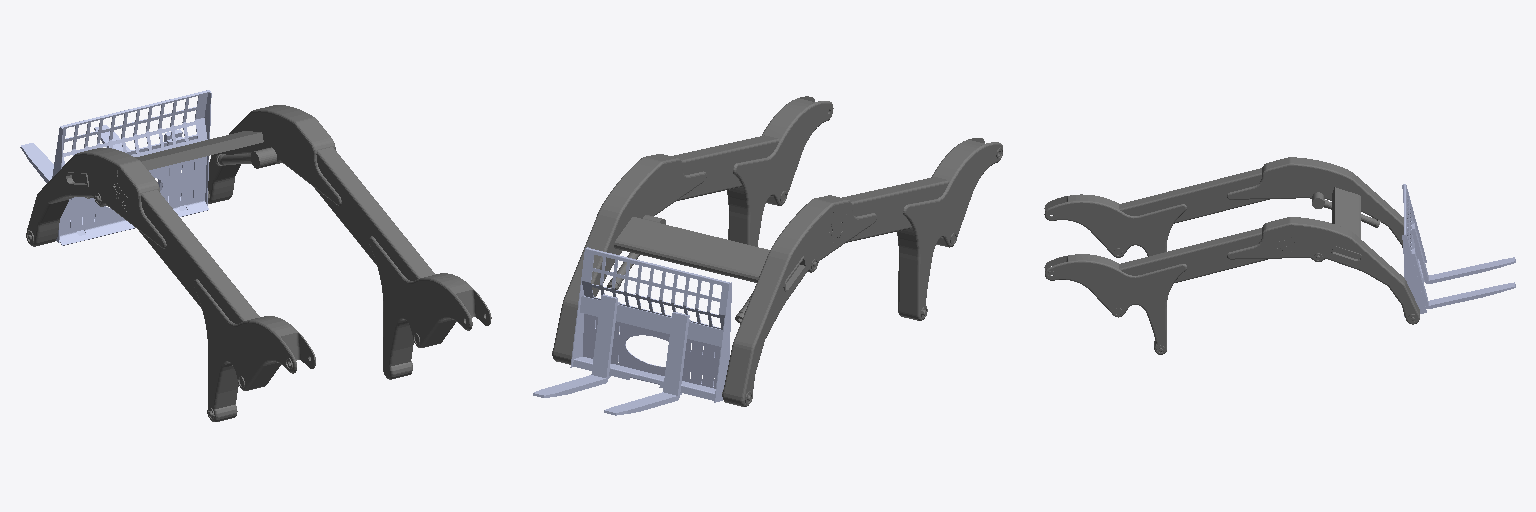
URDF robot description (bobcat3):
<?xml version="1.0" encoding="utf-8"?>
<!-- This URDF was automatically created by SolidWorks to URDF Exporter! Originally created by [author] ([email redacted]) 
     Commit Version: 1.6.0-4-g7f85cfe  Build Version: 1.6.7995.38578
     For more information, please see http://wiki.ros.org/sw_urdf_exporter -->
<robot
  name="bobcat3">
  <link name = "base_footprint"/>
  <joint
    name="wrold_fix"
    type="fixed">
    <origin
      xyz="0 0 1"
      rpy="1.5708 0 0" />
    <parent
      link="base_footprint" />
    <child
      link="base_link" />
  </joint>
  
  
  
  <link
    name="base_link">
    <inertial>
      <origin
        xyz="-1.8238E-06 0.022257 0.014962"
        rpy="0 0 0" />
      <mass
        value="0.11236" />
      <inertia
        ixx="4.1934E-05"
        ixy="-9.6708E-09"
        ixz="1.5214E-09"
        iyy="3.7338E-05"
        iyz="-6.0042E-06"
        izz="2.4357E-05" />
    </inertial>
    <visual>
      <origin
        xyz="0 0 0"
        rpy="0 0 0" />
      <geometry>
        <mesh
          filename="package://bobcat3/meshes/base_link.STL" />
      </geometry>
      <material
        name="">
        <color
          rgba="0 0 0 1" />
      </material>
    </visual>
    <collision>
      <origin
        xyz="0 0 0"
        rpy="0 0 0" />
      <geometry>
        <mesh
          filename="package://bobcat3/meshes/base_link.STL" />
      </geometry>
    </collision>
  </link>
   <link
    name="fr">
    <inertial>
      <origin
        xyz="0 0.002 -6.93889390390723E-18"
        rpy="0 0 0" />
      <mass
        value="1.000997328375146696" />
      <inertia
        ixx="2.16166446631795E-08"
        ixy="2.25435322789959E-24"
        ixz="4.70197740328915E-37"
        iyy="4.05737469926344E-08"
        iyz="4.709603314152E-38"
        izz="2.16166446631795E-08" />
    </inertial>

    <collision>
      <origin
        xyz="0 0 0"
        rpy="0 0 0" />
      <geometry>
        <mesh
          filename="package://bobcat3/meshes/wheel_rf.STL" />
      </geometry>
    </collision>
  </link>
  <joint
    name="fr_j"
    type="continuous">
    <origin
      xyz="0.038509 -0.0024193 -0.034535"
      rpy="0 0 1.5708" />
    <parent
      link="base_link" />
    <child
      link="fr" />
    <axis
      xyz="0 1 0" />
  </joint>
  <link
    name="fl">
    <inertial>
      <origin
        xyz="0 0.002 -6.93889390390723E-18"
        rpy="0 0 0" />
      <mass
        value="1.000997328375146696" />
      <inertia
        ixx="2.16166446631795E-08"
        ixy="2.25435322789959E-24"
        ixz="4.70197740328915E-37"
        iyy="4.05737469926344E-08"
        iyz="4.709603314152E-38"
        izz="2.16166446631795E-08" />
    </inertial>

    <collision>
      <origin
        xyz="0 0 0"
        rpy="0 0 0" />
      <geometry>
        <mesh
          filename="package://bobcat3/meshes/wheel_rf.STL" />
      </geometry>
    </collision>
  </link>
  <joint
    name="fl_j"
    type="continuous">
    <origin
      xyz="-0.034509 -0.0024193 -0.034542"
      rpy="0 0 1.5708" />
    <parent
      link="base_link" />
    <child
      link="fl" />
    <axis
      xyz="0 1 0" />
  </joint>
    <link
    name="rr">
    <inertial>
      <origin
        xyz="0 0.002 -6.93889390390723E-18"
        rpy="0 0 0" />
      <mass
        value="1.000997328375146696" />
      <inertia
        ixx="2.16166446631795E-08"
        ixy="2.25435322789959E-24"
        ixz="4.70197740328915E-37"
        iyy="4.05737469926344E-08"
        iyz="4.709603314152E-38"
        izz="2.16166446631795E-08" />
    </inertial>

    <collision>
      <origin
        xyz="0 0 0"
        rpy="0 0 0" />
      <geometry>
        <mesh
          filename="package://bobcat3/meshes/wheel_rf.STL" />
      </geometry>
    </collision>
  </link>
  <joint
    name="rr_j"
    type="continuous">
    <origin
      xyz="0.038509 -0.0024193 0.025629"
      rpy="0 0 1.5708" />
    <parent
      link="base_link" />
    <child
      link="rr" />
    <axis
      xyz="0 1 0" />
  </joint>
     <link
    name="rl">
    <inertial>
      <origin
        xyz="0 0.002 -6.93889390390723E-18"
        rpy="0 0 0" />
      <mass
        value="1.000997328375146696" />
      <inertia
        ixx="2.16166446631795E-08"
        ixy="2.25435322789959E-24"
        ixz="4.70197740328915E-37"
        iyy="4.05737469926344E-08"
        iyz="4.709603314152E-38"
        izz="2.16166446631795E-08" />
    </inertial>

    <collision>
      <origin
        xyz="0 0 0"
        rpy="0 0 0" />
      <geometry>
        <mesh
          filename="package://bobcat3/meshes/wheel_rf.STL" />
      </geometry>
    </collision>
  </link>
  <joint
    name="rl_j"
    type="continuous">
    <origin
      xyz="-0.034509 -0.0024193 0.025629"
      rpy="0 0 1.5708" />
    <parent
      link="base_link" />
    <child
      link="rl" />
    <axis
      xyz="0 1 0" />
  </joint>
  <link
    name="link1">
    <inertial>
      <origin
        xyz="-0.051553 0.0012663 0.022548"
        rpy="0 0 0" />
      <mass
        value="0.110932" />
      <inertia
        ixx="5.1946E-07"
        ixy="-3.6536E-07"
        ixz="-2.3689E-12"
        iyy="1.4221E-06"
        iyz="-1.1955E-12"
        izz="1.6758E-06" />
    </inertial>
    <visual>
      <origin
        xyz="0 0 0"
        rpy="0 0 0" />
      <geometry>
        <mesh
          filename="package://bobcat3/meshes/link1.STL" />
      </geometry>
      <material
        name="">
        <color
          rgba="0.50196 0.50196 0.50196 1" />
      </material>
    </visual>
    <collision>
      <origin
        xyz="0 0 0"
        rpy="0 0 0" />
      <geometry>
        <mesh
          filename="package://bobcat3/meshes/link1.STL" />
      </geometry>
    </collision>
  </link>
  <joint
    name="joint1"
    type="revolute">
    <origin
      xyz="0.022549 0.068191 0.044622"
      rpy="3.1416 -1.5708 3.1416" />
    <parent
      link="base_link" />
    <child
      link="link1" />
    <axis
      xyz="0 0 -1" />
    <limit
      lower="-0.4"
      upper="1.5"
      effort="0.1"
      velocity="2" />
  </joint>
  <link
    name="link2">
    <inertial>
      <origin
        xyz="-0.0051835 0.0053189 0.021582"
        rpy="0 0 0" />
      <mass
        value="0.00053832" />
      <inertia
        ixx="4.002E-08"
        ixy="-4.733E-09"
        ixz="-3.1994E-12"
        iyy="5.1628E-08"
        iyz="-3.293E-12"
        izz="3.1882E-08" />
    </inertial>
    <visual>
      <origin
        xyz="0 0 0"
        rpy="0 0 0" />
      <geometry>
        <mesh
          filename="package://bobcat3/meshes/link2.STL" />
      </geometry>
      <material
        name="">
        <color
          rgba="0.79216 0.81961 0.93333 1" />
      </material>
    </visual>
    <collision>
      <origin
        xyz="0 0 0"
        rpy="0 0 0" />
      <geometry>
        <mesh
          filename="package://bobcat3/meshes/link2.STL" />
      </geometry>
    </collision>
  </link>
  <joint
    name="joint2"
    type="fixed">
    <origin
      xyz="-0.10229 -0.013714 0"
      rpy="0 0 0" />
    <parent
      link="link1" />
    <child
      link="link2" /> -->
    <!-- <axis
      xyz="0 0 -1" />
    <limit
      lower="-3"
      upper="3"
      effort="0"
      velocity="0" /> -->
  </joint> 


 <gazebo>
  <plugin name="skid_steer_drive_controller" filename="libgazebo_ros_skid_steer_drive.so">
    <robotNamespace>/</robotNamespace>

    <updateRate>10</updateRate>
    <leftFrontJoint>fl_j</leftFrontJoint>
    <rightFrontJoint>fr_j</rightFrontJoint>
    <leftRearJoint>rl_j</leftRearJoint>
    <rightRearJoint>rr_j</rightRearJoint>
    <wheelSeparation>0.067018</wheelSeparation>
    <wheelDiameter>0.01</wheelDiameter>
     <wheelAcceleration>1.0</wheelAcceleration>

    <commandTopic>cmd_vel</commandTopic>
    <topic_name_twist>cmd_vel</topic_name_twist>
    <topicName>cmd_vel</topicName>
    <odometryTopic>odom</odometryTopic>
    <odometryFrame>odom</odometryFrame>
    <topic_name_joint>joint</topic_name_joint>
    <broadcastTF>true</broadcastTF>
    <torque>100</torque>
        <topic_name_odometry>odom</topic_name_odometry>

    <robotBaseFrame>base_footprint</robotBaseFrame>
    <publishOdom>true</publishOdom>
    <publishWheelJointState>true</publishWheelJointState>

    <topic_name_joint>joint</topic_name_joint>

    <covariance_x>0.0001</covariance_x>
    <covariance_y>0.0001</covariance_y>
    <covariance_yaw>0.01</covariance_yaw>
  </plugin>

    </gazebo>





    <gazebo>
    <plugin name="gazebo_ros_control" filename= "libgazebo_ros_control.so">
        <robotNamespace>/</robotNamespace>
    </plugin>
</gazebo>
    <transmission name="jint_tran">
      <type>transmission_interface/SimpleTransmission</type>
      <joint name="joint1">
        <hardwareInterface>hardware_interface/PositionJointInterface</hardwareInterface>
      </joint>
      <actuator name="joint1_act">
        <hardwareInterface>hardware_interface/PositionJointInterface</hardwareInterface>
        <mechanicalReduction>1</mechanicalReduction>
      </actuator>
    </transmission>



  <!-- <transmission name="wheel_lb_transmission">
        <type>transmission_interface/SimpleTransmission</type>
        <joint name="fl_j">
            <hardwareInterface>hardware_interface/VelocityJointInterface</hardwareInterface>
        </joint>
        <actuator name="wheel_lb_joint_actuator">
            <mechanicalReduction>1</mechanicalReduction>
        </actuator>
    </transmission>
  <transmission name="wheel_rb_transmission">
        <type>transmission_interface/SimpleTransmission</type>
        <joint name="fr_j">
            <hardwareInterface>hardware_interface/VelocityJointInterface</hardwareInterface>
        </joint>
        <actuator name="wheel_rb_joint_actuator">
            <mechanicalReduction>1</mechanicalReduction>
        </actuator>
    </transmission>
  <transmission name="wheel_lf_transmission">
        <type>transmission_interface/SimpleTransmission</type>
        <joint name="rl_j">
            <hardwareInterface>hardware_interface/VelocityJointInterface</hardwareInterface>
        </joint>
        <actuator name="wheel_lf_joint_actuator">
            <mechanicalReduction>1</mechanicalReduction>
        </actuator>
    </transmission>
  <transmission name="wheel_rf_transmission">
        <type>transmission_interface/SimpleTransmission</type>
        <joint name="rr_j">
            <hardwareInterface>hardware_interface/VelocityJointInterface</hardwareInterface>
        </joint>
        <actuator name="wheel_rf_joint_actuator">
            <mechanicalReduction>1</mechanicalReduction>
        </actuator>
    </transmission> -->

















</robot>

--- Facts derived from the render (not from the file) ---
Views: 3 orthographic renders of the robot side by side, from view 1: azimuth 30°, elevation 25°; view 2: azimuth 150°, elevation 25°; view 3: azimuth 270°, elevation 25°.
Model bobcat3 with 8 links and 7 joints (1 revolute, 4 continuous, 2 fixed), rooted at base_footprint, posed all joints at 0.
Visible links, largest first — view 1: link1, link2; view 2: link1, link2; view 3: link1, link2.
Link boxes in pixels (x1=…): link1: x1=26, y1=105, x2=491, y2=421; link2: x1=20, y1=90, x2=211, y2=245; link1: x1=552, y1=96, x2=1002, y2=406; link2: x1=533, y1=247, x2=731, y2=415; link1: x1=1044, y1=157, x2=1419, y2=354; link2: x1=1402, y1=184, x2=1515, y2=316.
Size in the robot's own frame: 0.0461 by 0.1335 by 0.0412 metres.
Meshes: 3 distinct files referenced, 2 mesh visuals loaded (2 binary STL); not drawn: 1 (reference not matched to a file when rendering).